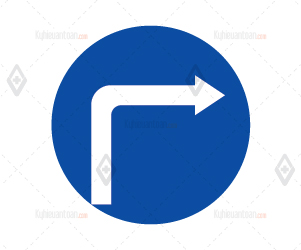Turn_right: (48, 24, 252, 227)
